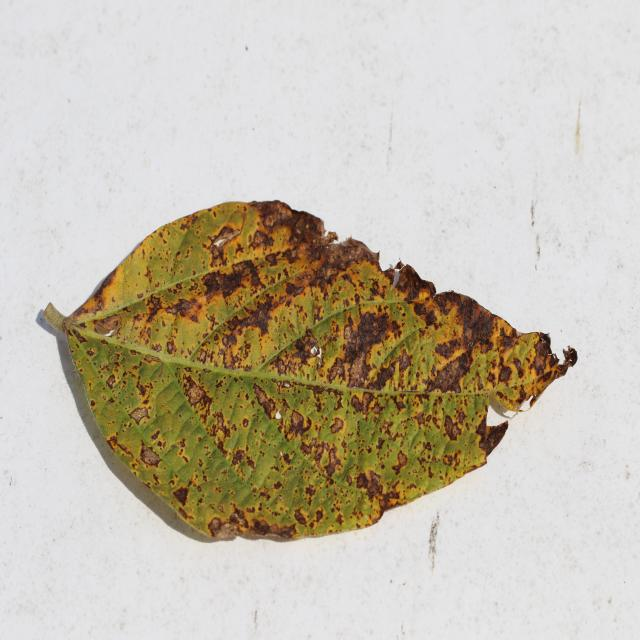Bacterial_Blight: (238, 297, 276, 336), (305, 435, 340, 476), (428, 357, 465, 392), (332, 236, 378, 264), (163, 296, 201, 322), (287, 412, 319, 438), (554, 344, 578, 378), (357, 470, 384, 500), (105, 434, 135, 460), (92, 314, 122, 336), (185, 382, 206, 408), (443, 414, 461, 441), (139, 446, 161, 468), (284, 279, 307, 300), (327, 358, 345, 384), (250, 229, 272, 249), (213, 412, 230, 436), (228, 508, 248, 528), (350, 393, 368, 415), (172, 485, 190, 507), (250, 518, 271, 535), (532, 352, 547, 375), (130, 406, 149, 424), (434, 341, 452, 359), (499, 332, 516, 351), (537, 330, 551, 352), (221, 332, 238, 350), (421, 308, 437, 327), (343, 324, 357, 345), (72, 328, 89, 344), (498, 366, 512, 385), (231, 448, 245, 467), (294, 507, 308, 526), (210, 243, 224, 262), (399, 350, 411, 372), (275, 358, 290, 375), (329, 417, 344, 434), (395, 450, 408, 469), (414, 411, 426, 428), (304, 484, 316, 500), (517, 386, 528, 403), (442, 453, 455, 467), (105, 374, 117, 389), (280, 451, 291, 465), (198, 350, 208, 363), (486, 371, 496, 384), (166, 341, 175, 354), (273, 480, 283, 491), (150, 430, 160, 441), (86, 348, 96, 358), (186, 345, 195, 356), (152, 343, 161, 352), (295, 273, 304, 282), (242, 418, 249, 427), (90, 400, 96, 409), (136, 292, 143, 299), (203, 368, 211, 374), (277, 381, 282, 388), (111, 296, 115, 303)
Soybean: (44, 201, 579, 538)
